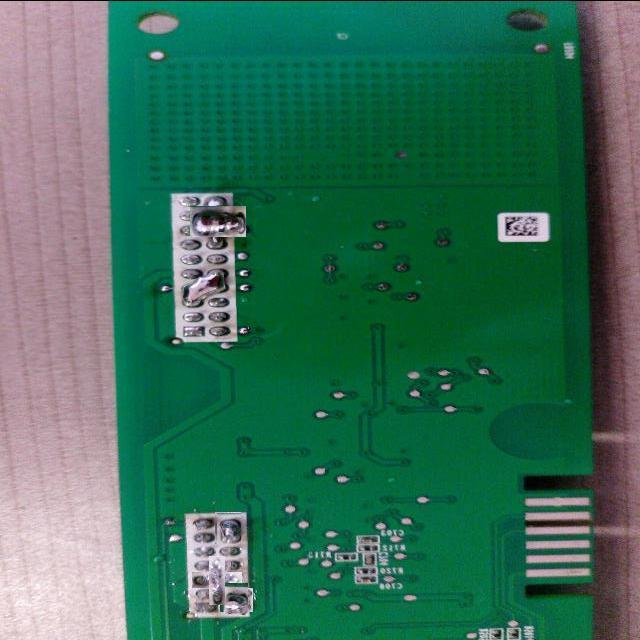Short_circuit: (178, 266, 236, 308), (196, 200, 240, 243), (200, 563, 233, 597), (216, 512, 242, 544), (222, 586, 251, 614)
